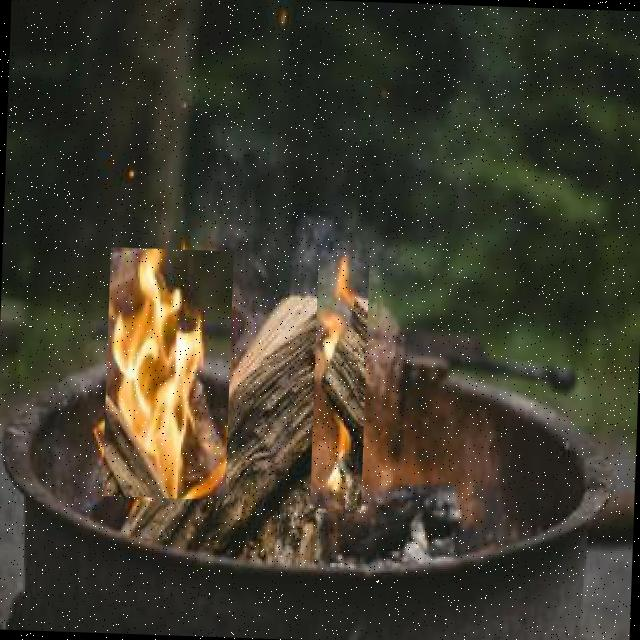fire: (102, 246, 234, 499), (309, 260, 369, 510)
